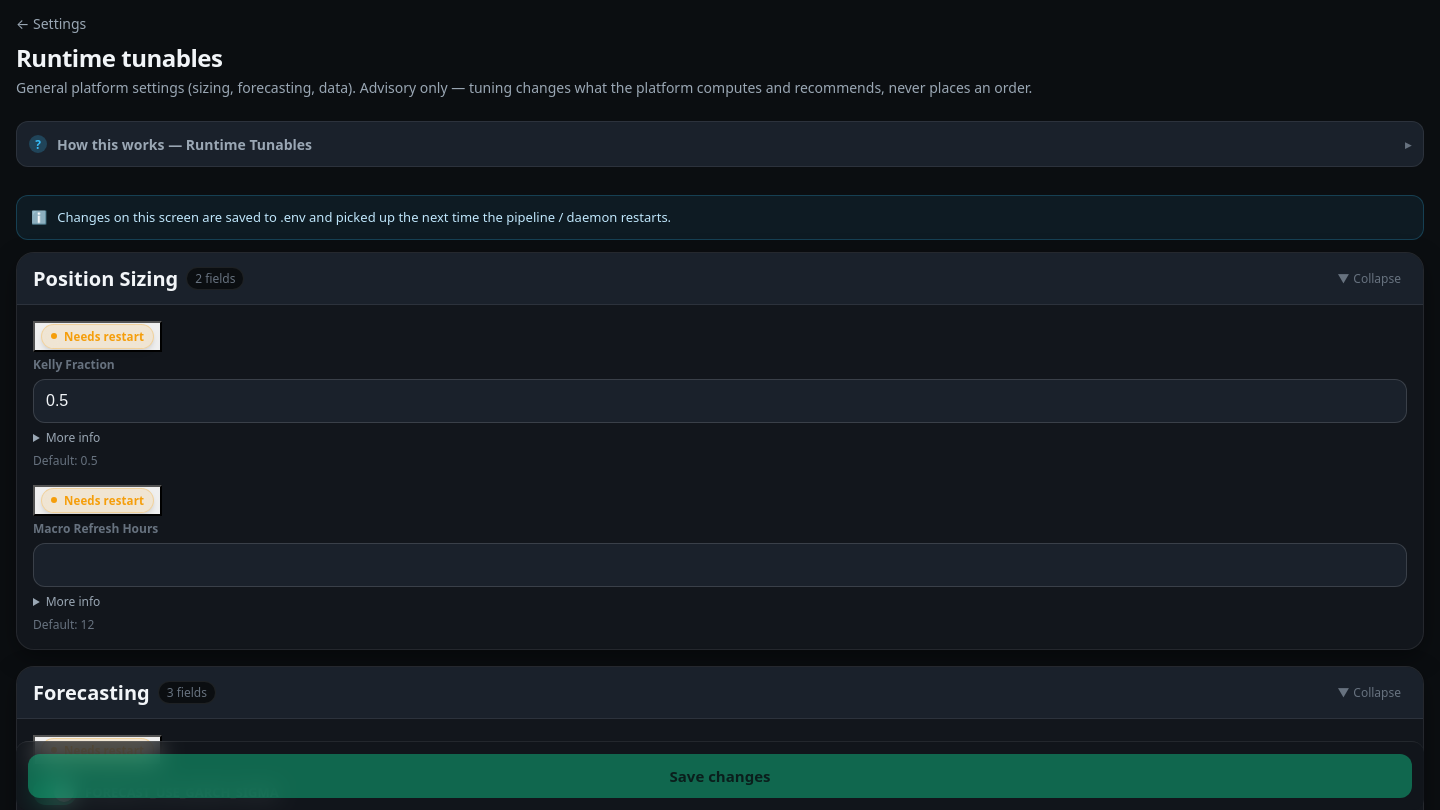
it: SettingsManager screen › surfaces per-key rejected reasons and keeps the key dirty
// A value that is valid client-side (in [0,1]) but the server still rejects.
Replace the text in the number field labelled "Kelly Fraction" with "0.6": (720, 401) [33,379,1407,423]
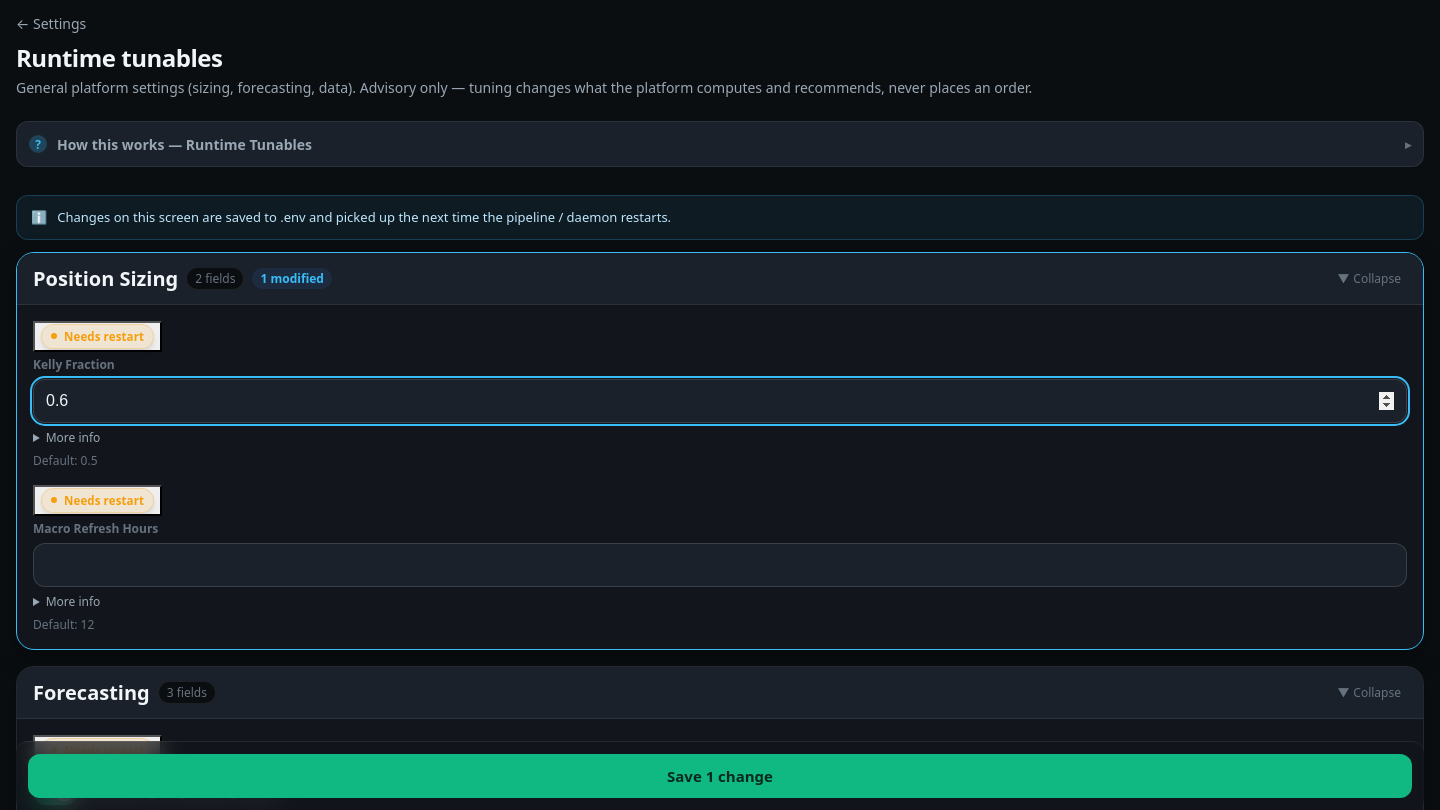
Click the button "Save 1 change": (720, 776) [28,754,1412,798]
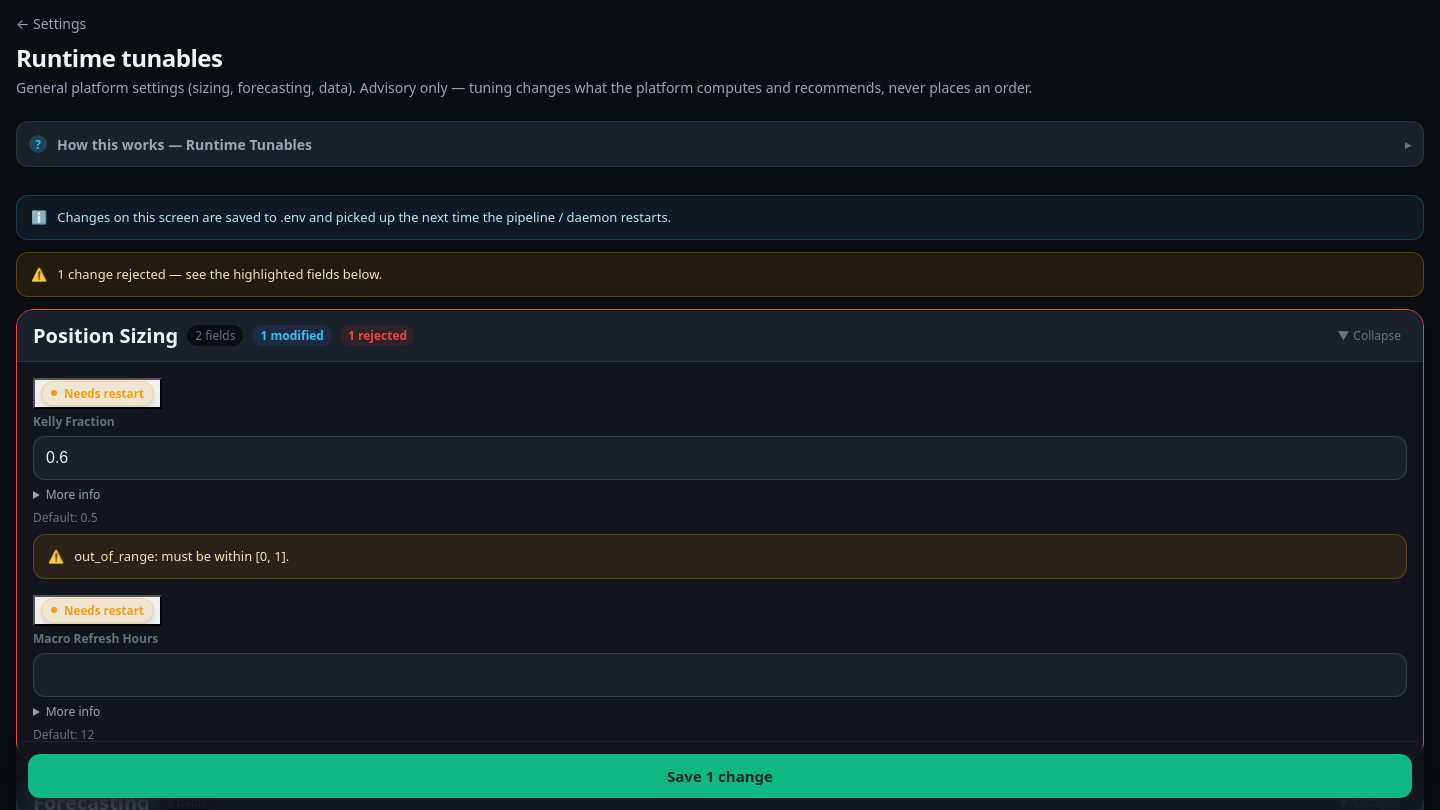
Check: the button "Save 1 change" is enabled, box [28,754,1412,798]
Check: the message with test id "rejected-Kelly Fraction" shows "out_of_range", box [74,547,289,565]
